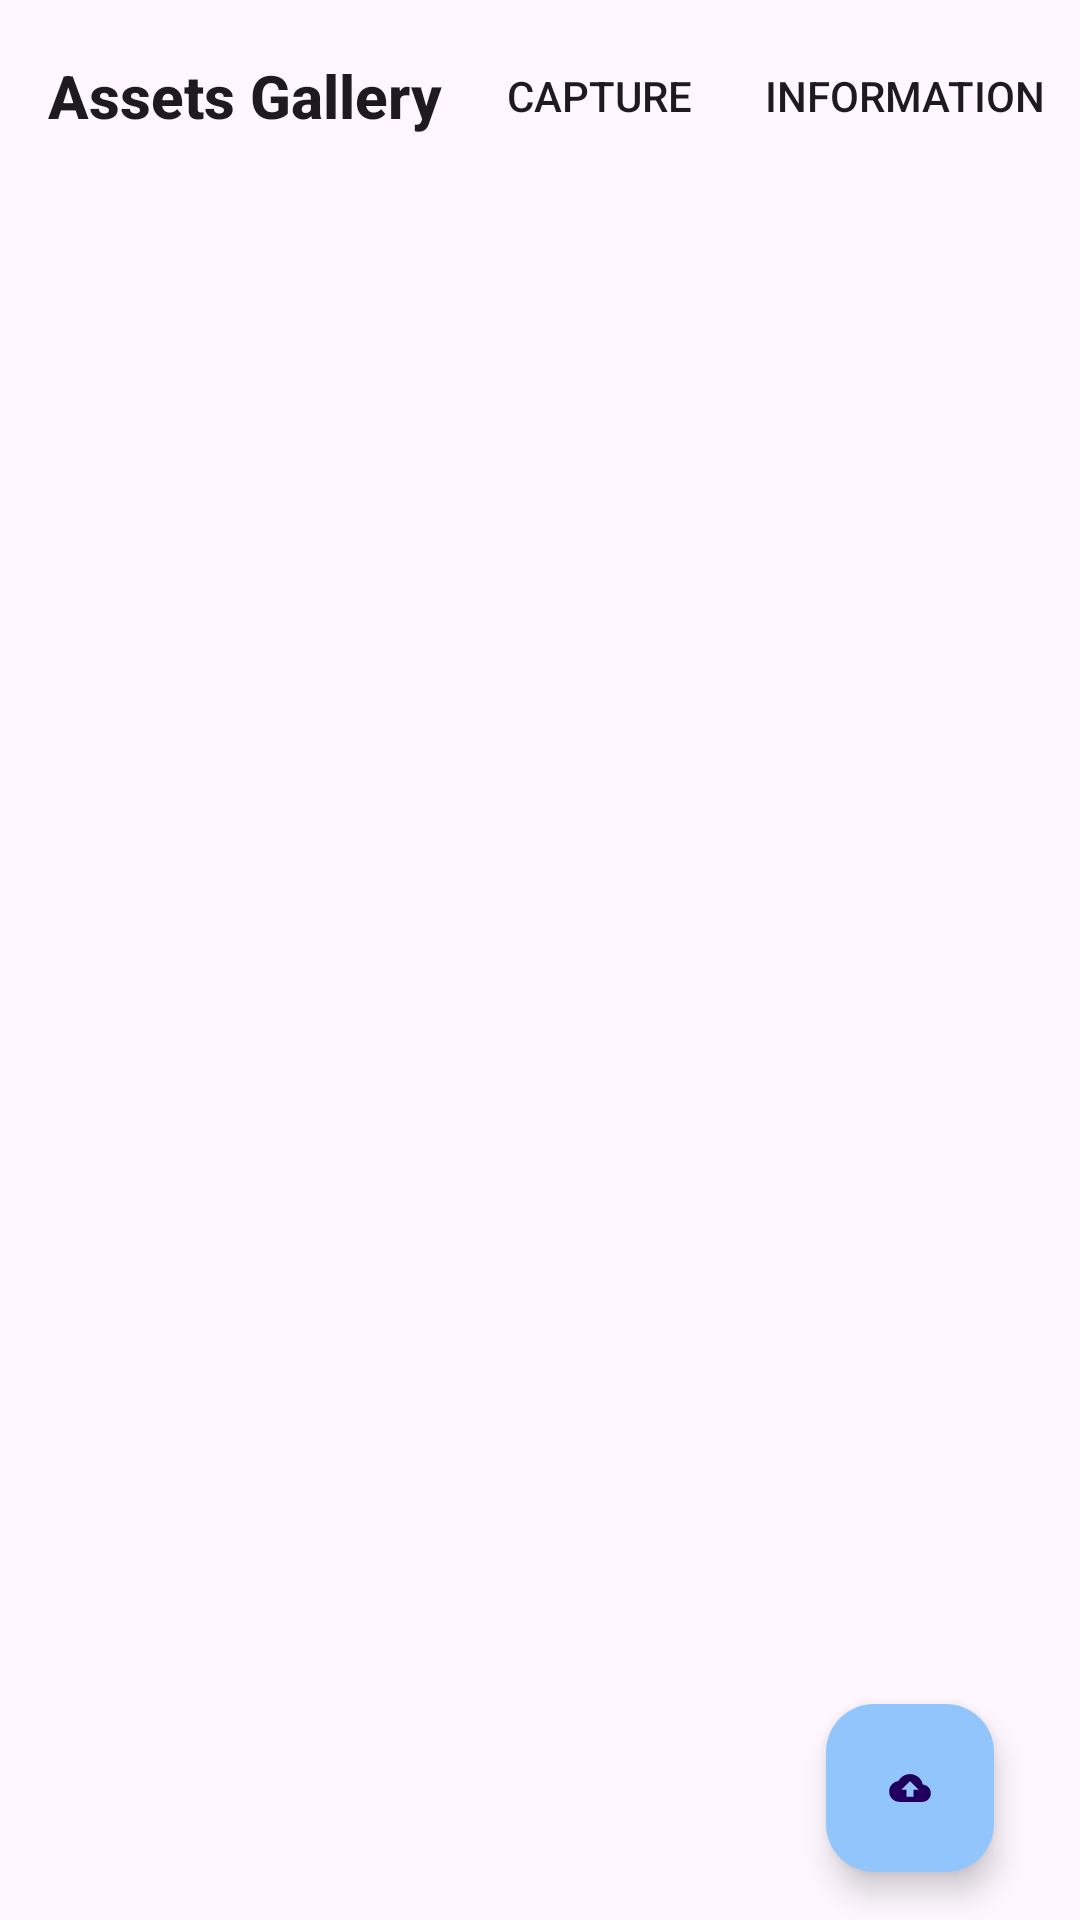

Where to tap for icons on this 1080px x 1920px app screen, as (x=x, y=y):
Upload Image: (x=910, y=1788)
